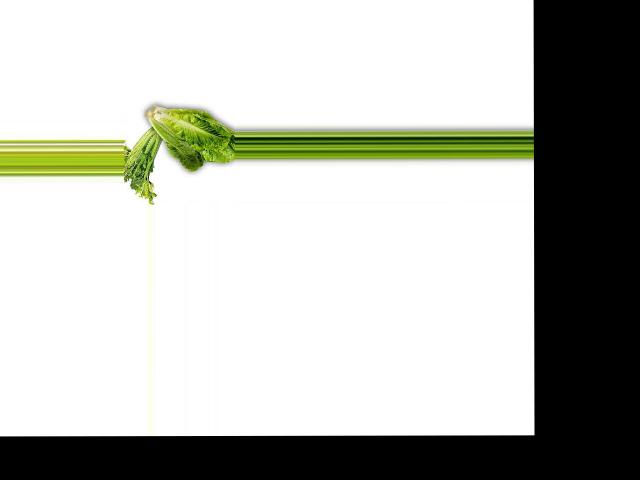lettuce: (140, 108, 235, 178)
